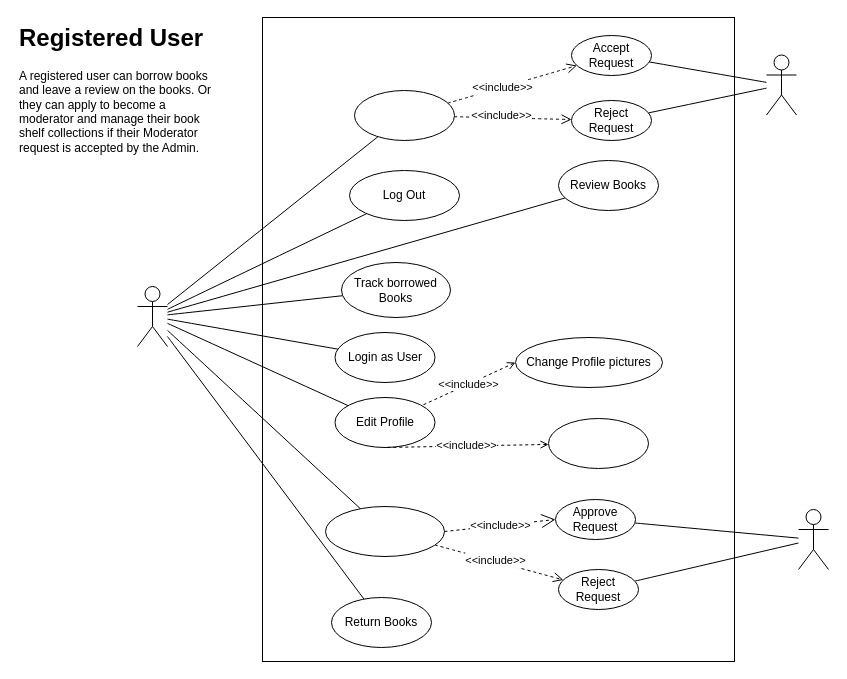
Image size: 847x679. Some labels were removed from this diagram. The centre of each missing label's shape, as x and y in pixels:
"Admin" goes at (813,539).
"Apply to become Moderator" goes at (384,531).
"Change passwords" goes at (598,443).
"Moderator" goes at (781,84).
"Request to Borrow Books" goes at (404,115).
"User" goes at (152,316).
